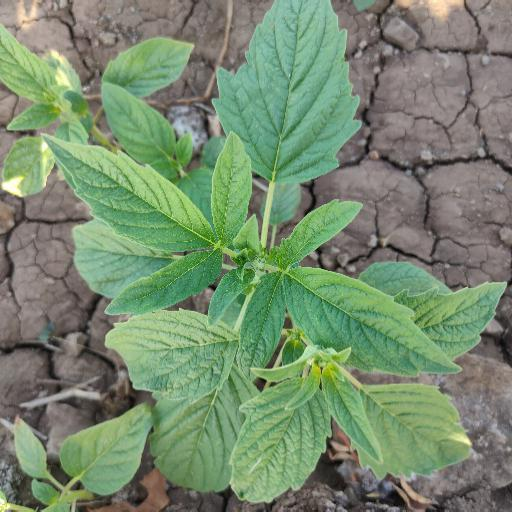crop: (1, 1, 497, 488)
